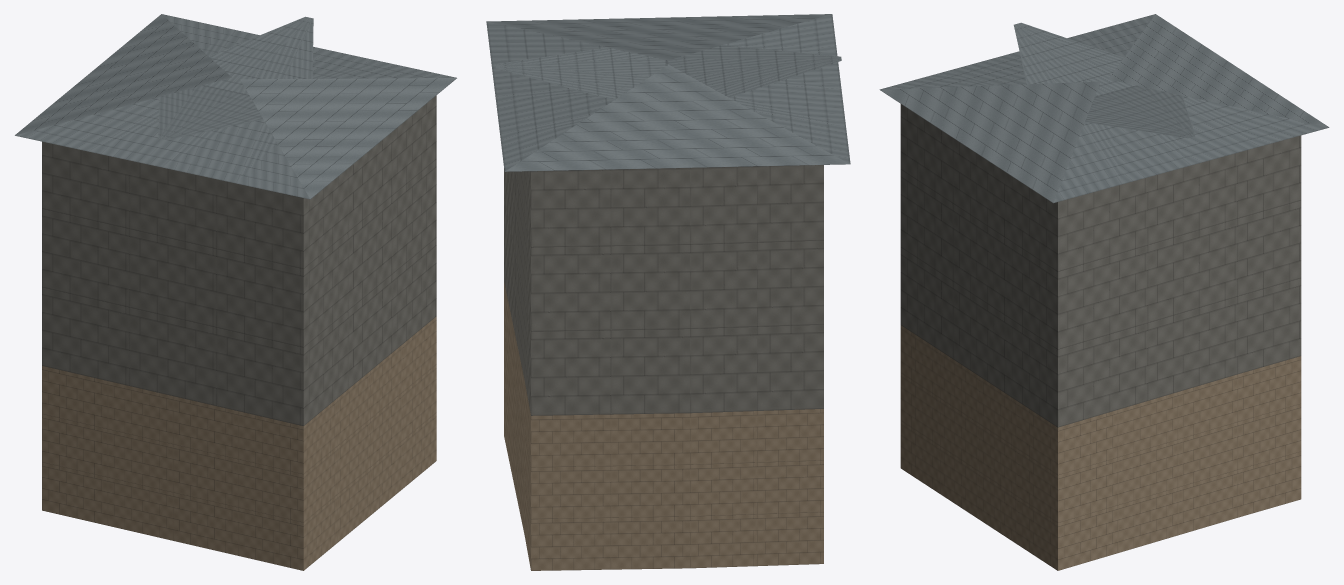
The model's file is bld_c-10_41_516.gltf.
3 views of the same model, side by side, from view 1: azimuth 30°, elevation 25°; view 2: azimuth 150°, elevation 25°; view 3: azimuth 270°, elevation 25° (orthographic). The views are drawn at different scales.
Parts seen in each view (by area): view 1: bld_c-10_41_516; view 2: bld_c-10_41_516; view 3: bld_c-10_41_516.
Boxes of the visible parts, bbox=[...] form: bld_c-10_41_516: bbox=[15, 14, 456, 570]; bld_c-10_41_516: bbox=[486, 14, 850, 570]; bld_c-10_41_516: bbox=[879, 14, 1329, 570].
Bounding box in the file's own units: 14.44 × 14.4 × 14.52.
3 materials, 3 textured.
